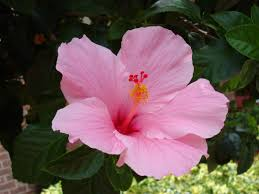flower: (52, 31, 251, 185)
